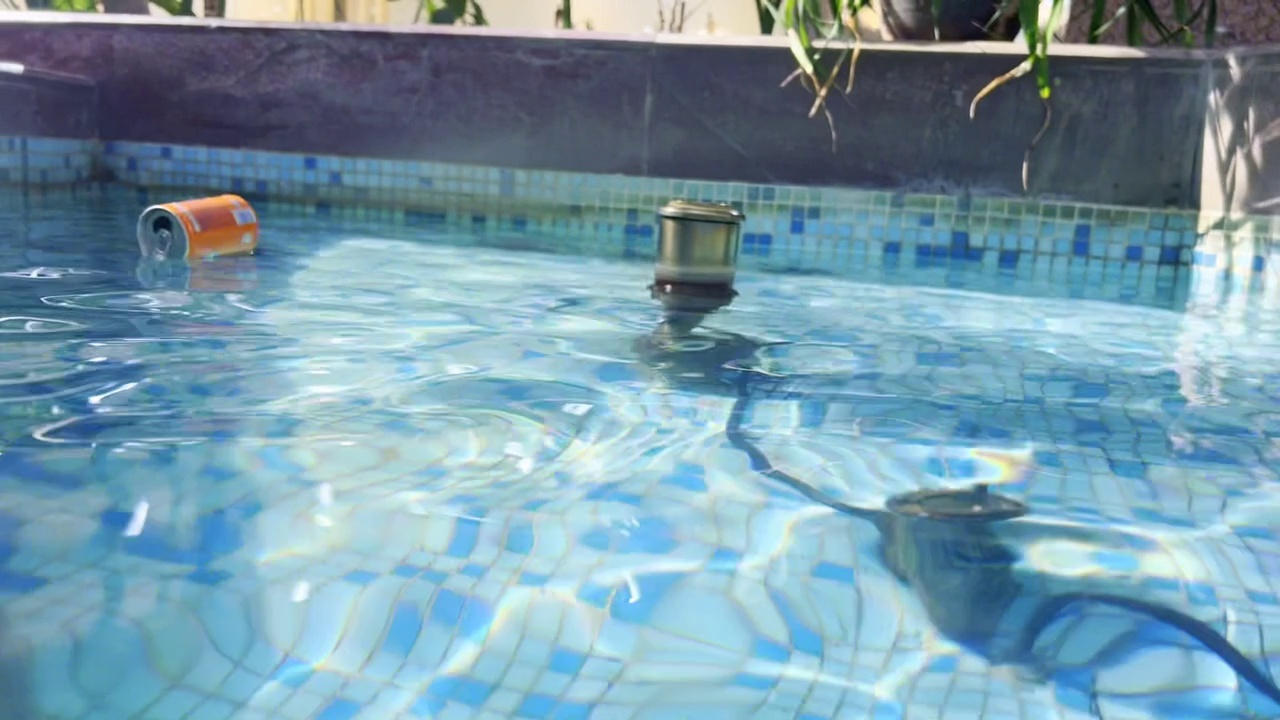debris: (129, 190, 267, 272)
